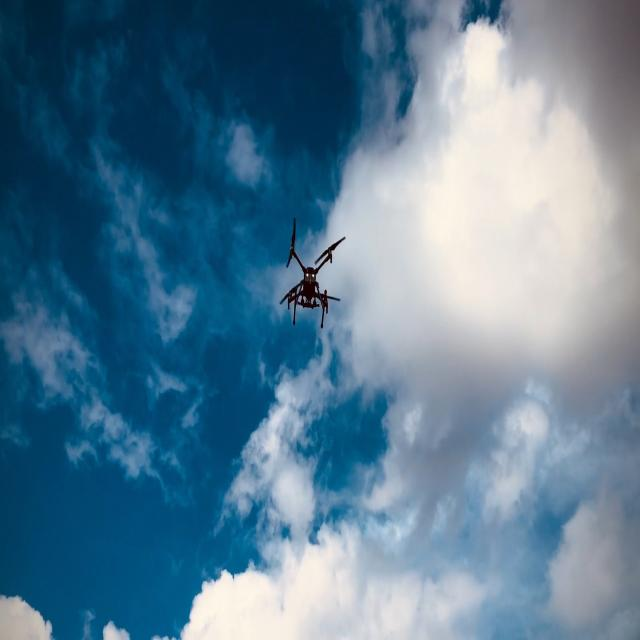drone: (278, 216, 346, 329)
